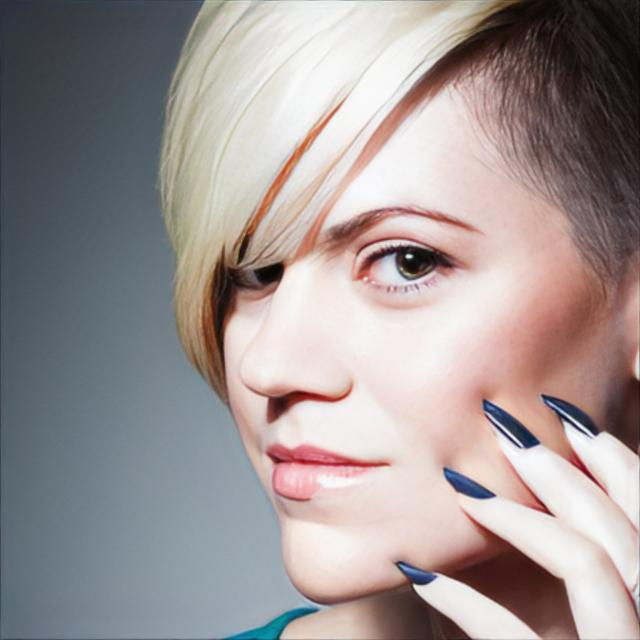happy: (212, 33, 611, 607)
